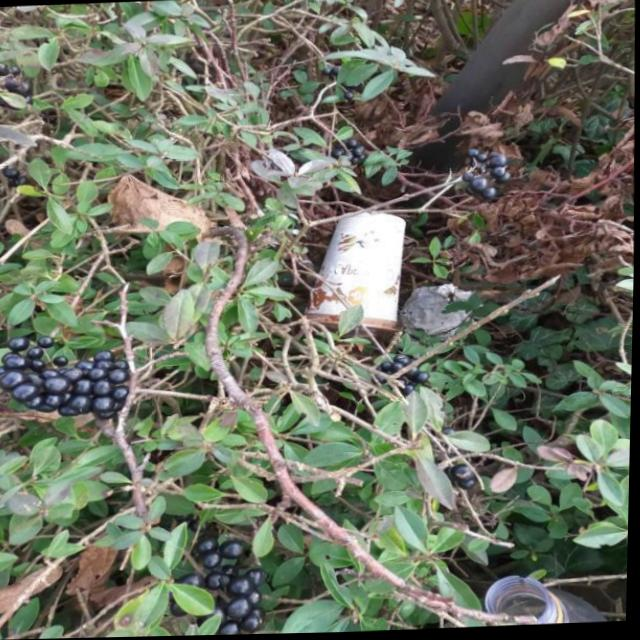Cup: (301, 209, 410, 348)
Paper: (397, 282, 486, 343)
